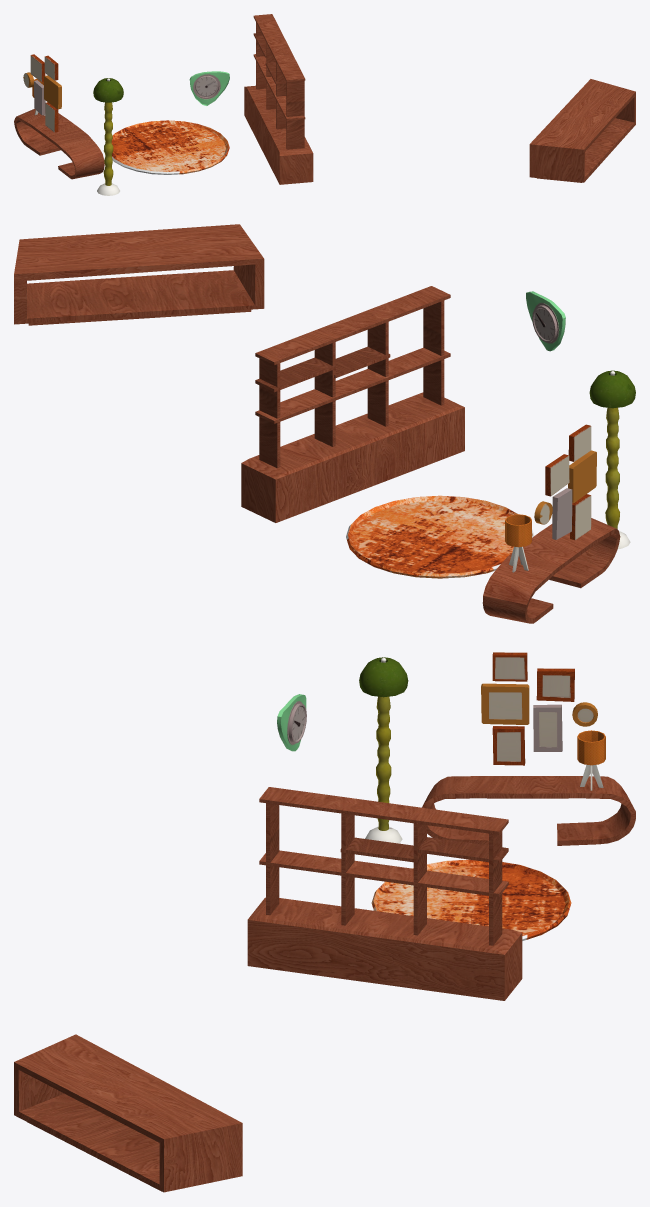
File: mesh_60_room_2.glb
The picture shows the model from 3 angles, top to bottom: view 1: azimuth 30°, elevation 25°; view 2: azimuth 150°, elevation 25°; view 3: azimuth 270°, elevation 25°; orthographic projection. The views are drawn at different scales.
Visible parts, largest first — view 1: mesh_60_room_2; view 2: mesh_60_room_2; view 3: mesh_60_room_2.
Boxes of the visible parts, box(x1,y1,x2,y2) form: mesh_60_room_2: box(14, 14, 635, 195); mesh_60_room_2: box(14, 224, 635, 623); mesh_60_room_2: box(14, 652, 635, 1192).
Size of the model in its own units: 7.32 by 1.79 by 5.1.
Materials: 1 (1 with a texture image).
